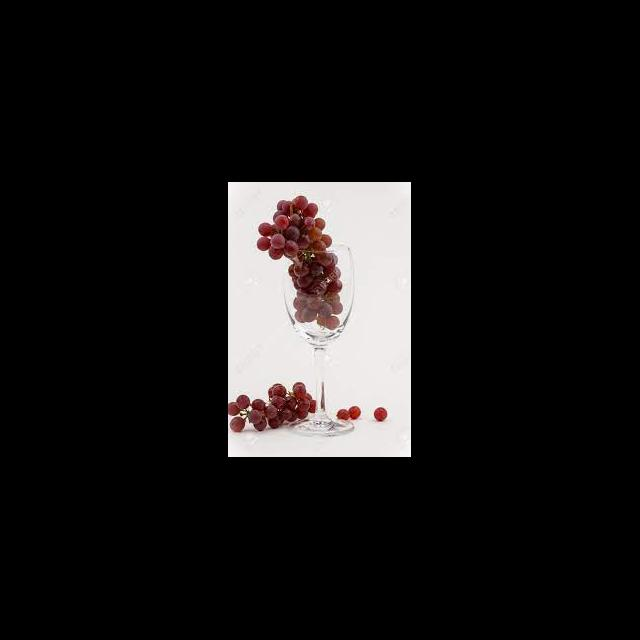grape: (256, 196, 344, 330), (228, 382, 316, 432), (373, 408, 388, 422)
